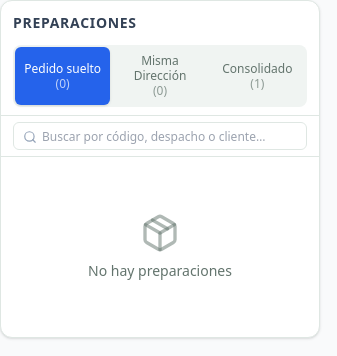
Test case: PendingSidebar — tarjetas › en consolidado muestra código de envío, importe total y resumen de pedidos
Click the tab "Consolidado (1)" at (257, 76), box x1=210 y1=47 x2=305 y2=105
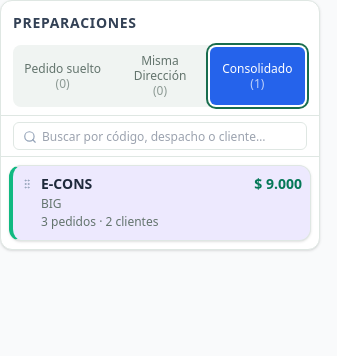
Expected: the text "E-CONS" is shown, x1=41 y1=174 x2=92 y2=194
Expected: the text "$ 9.000" is shown, x1=254 y1=174 x2=302 y2=194
Expected: the text "3 pedidos · 2 clientes" is shown, x1=41 y1=214 x2=158 y2=230
